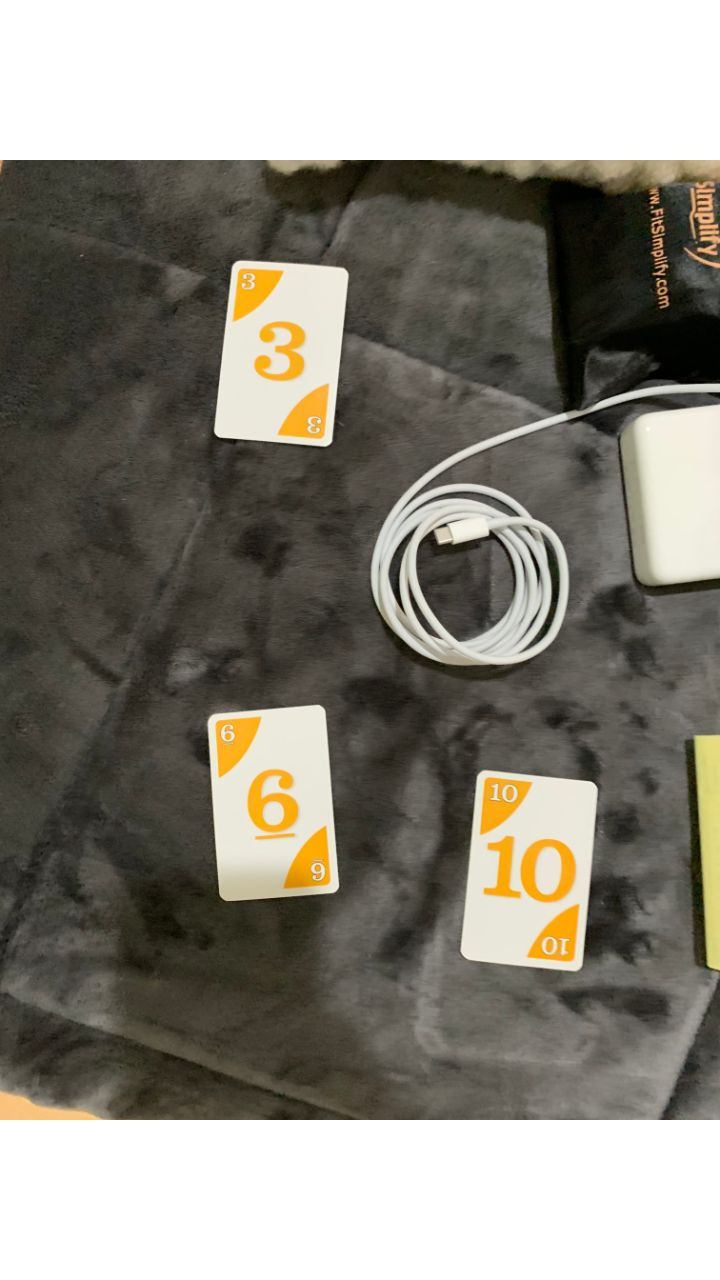six: (204, 703, 343, 907)
ten: (453, 763, 600, 983)
three: (207, 255, 353, 451)
